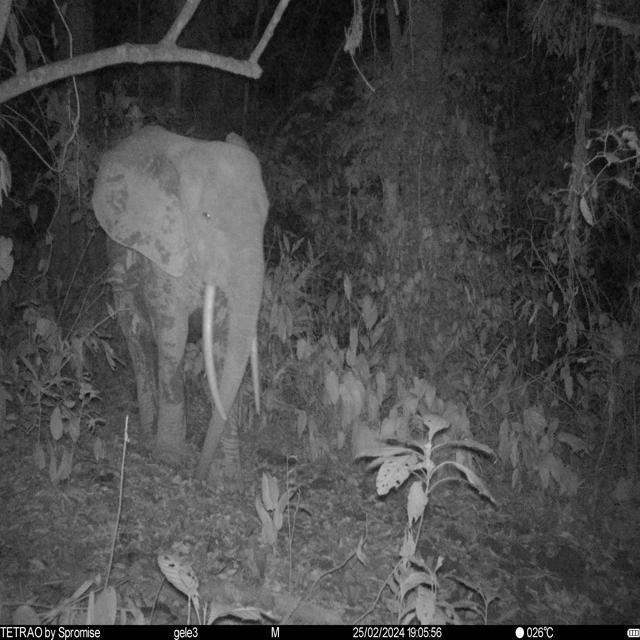ear: (90, 125, 191, 283)
elephant: (90, 125, 272, 495)
tusk: (201, 284, 227, 422), (248, 338, 262, 417)
